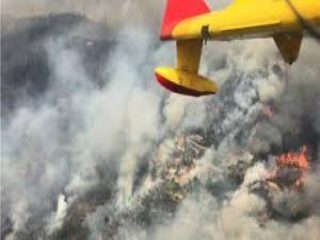fire: (271, 143, 308, 182)
smoke: (11, 69, 158, 224), (175, 124, 264, 232)
